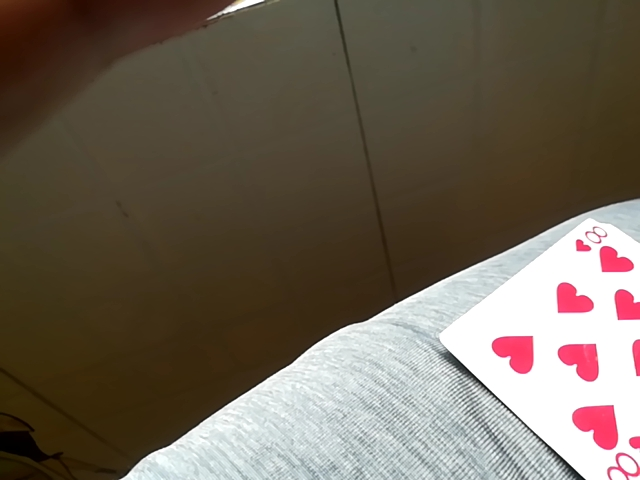hx 8: (433, 209, 635, 480)
